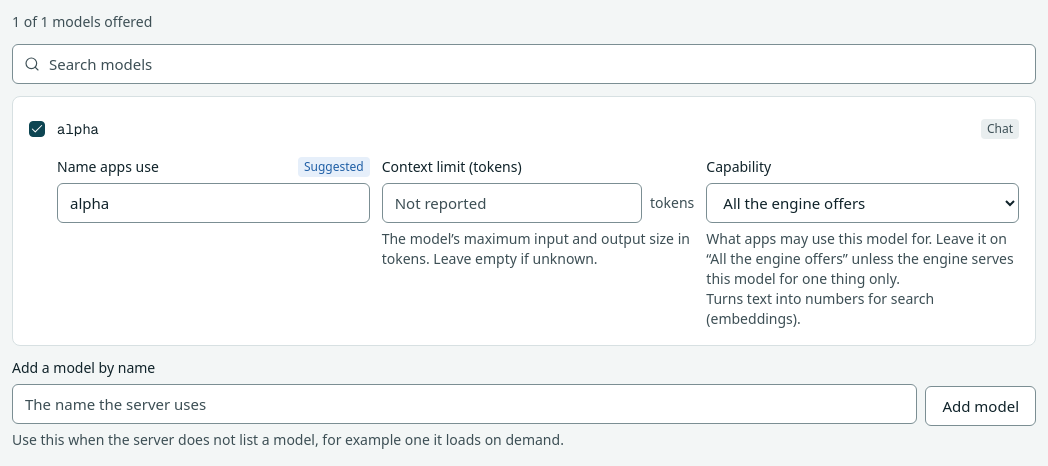
Add a model by name says why nothing happened › an empty name asks for the model name used by the server
Click the button "Add model": x=981, y=406 [925,386,1036,426]
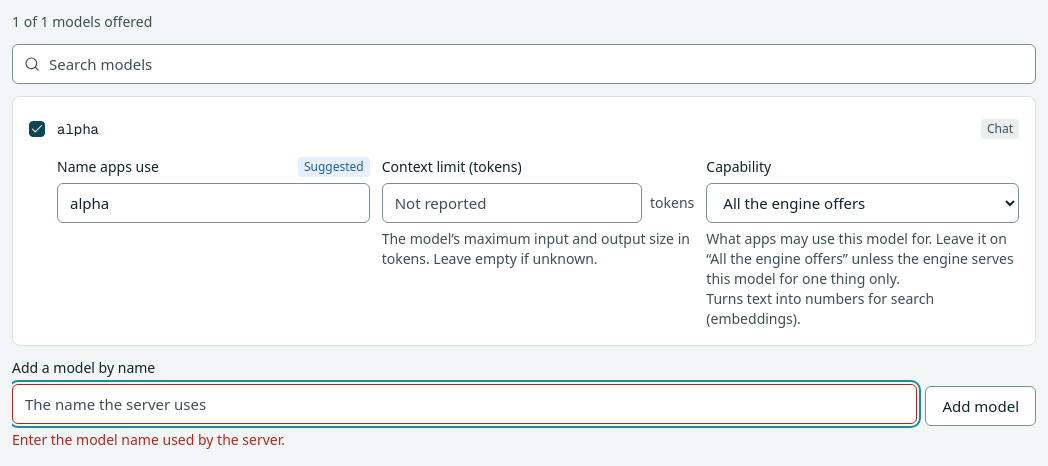
Check: the text "1 of 1 models offered" is shown, box [12,12,152,31]
Check: the text "Enter the model name used by the server." is shown, box [12,430,285,449]
